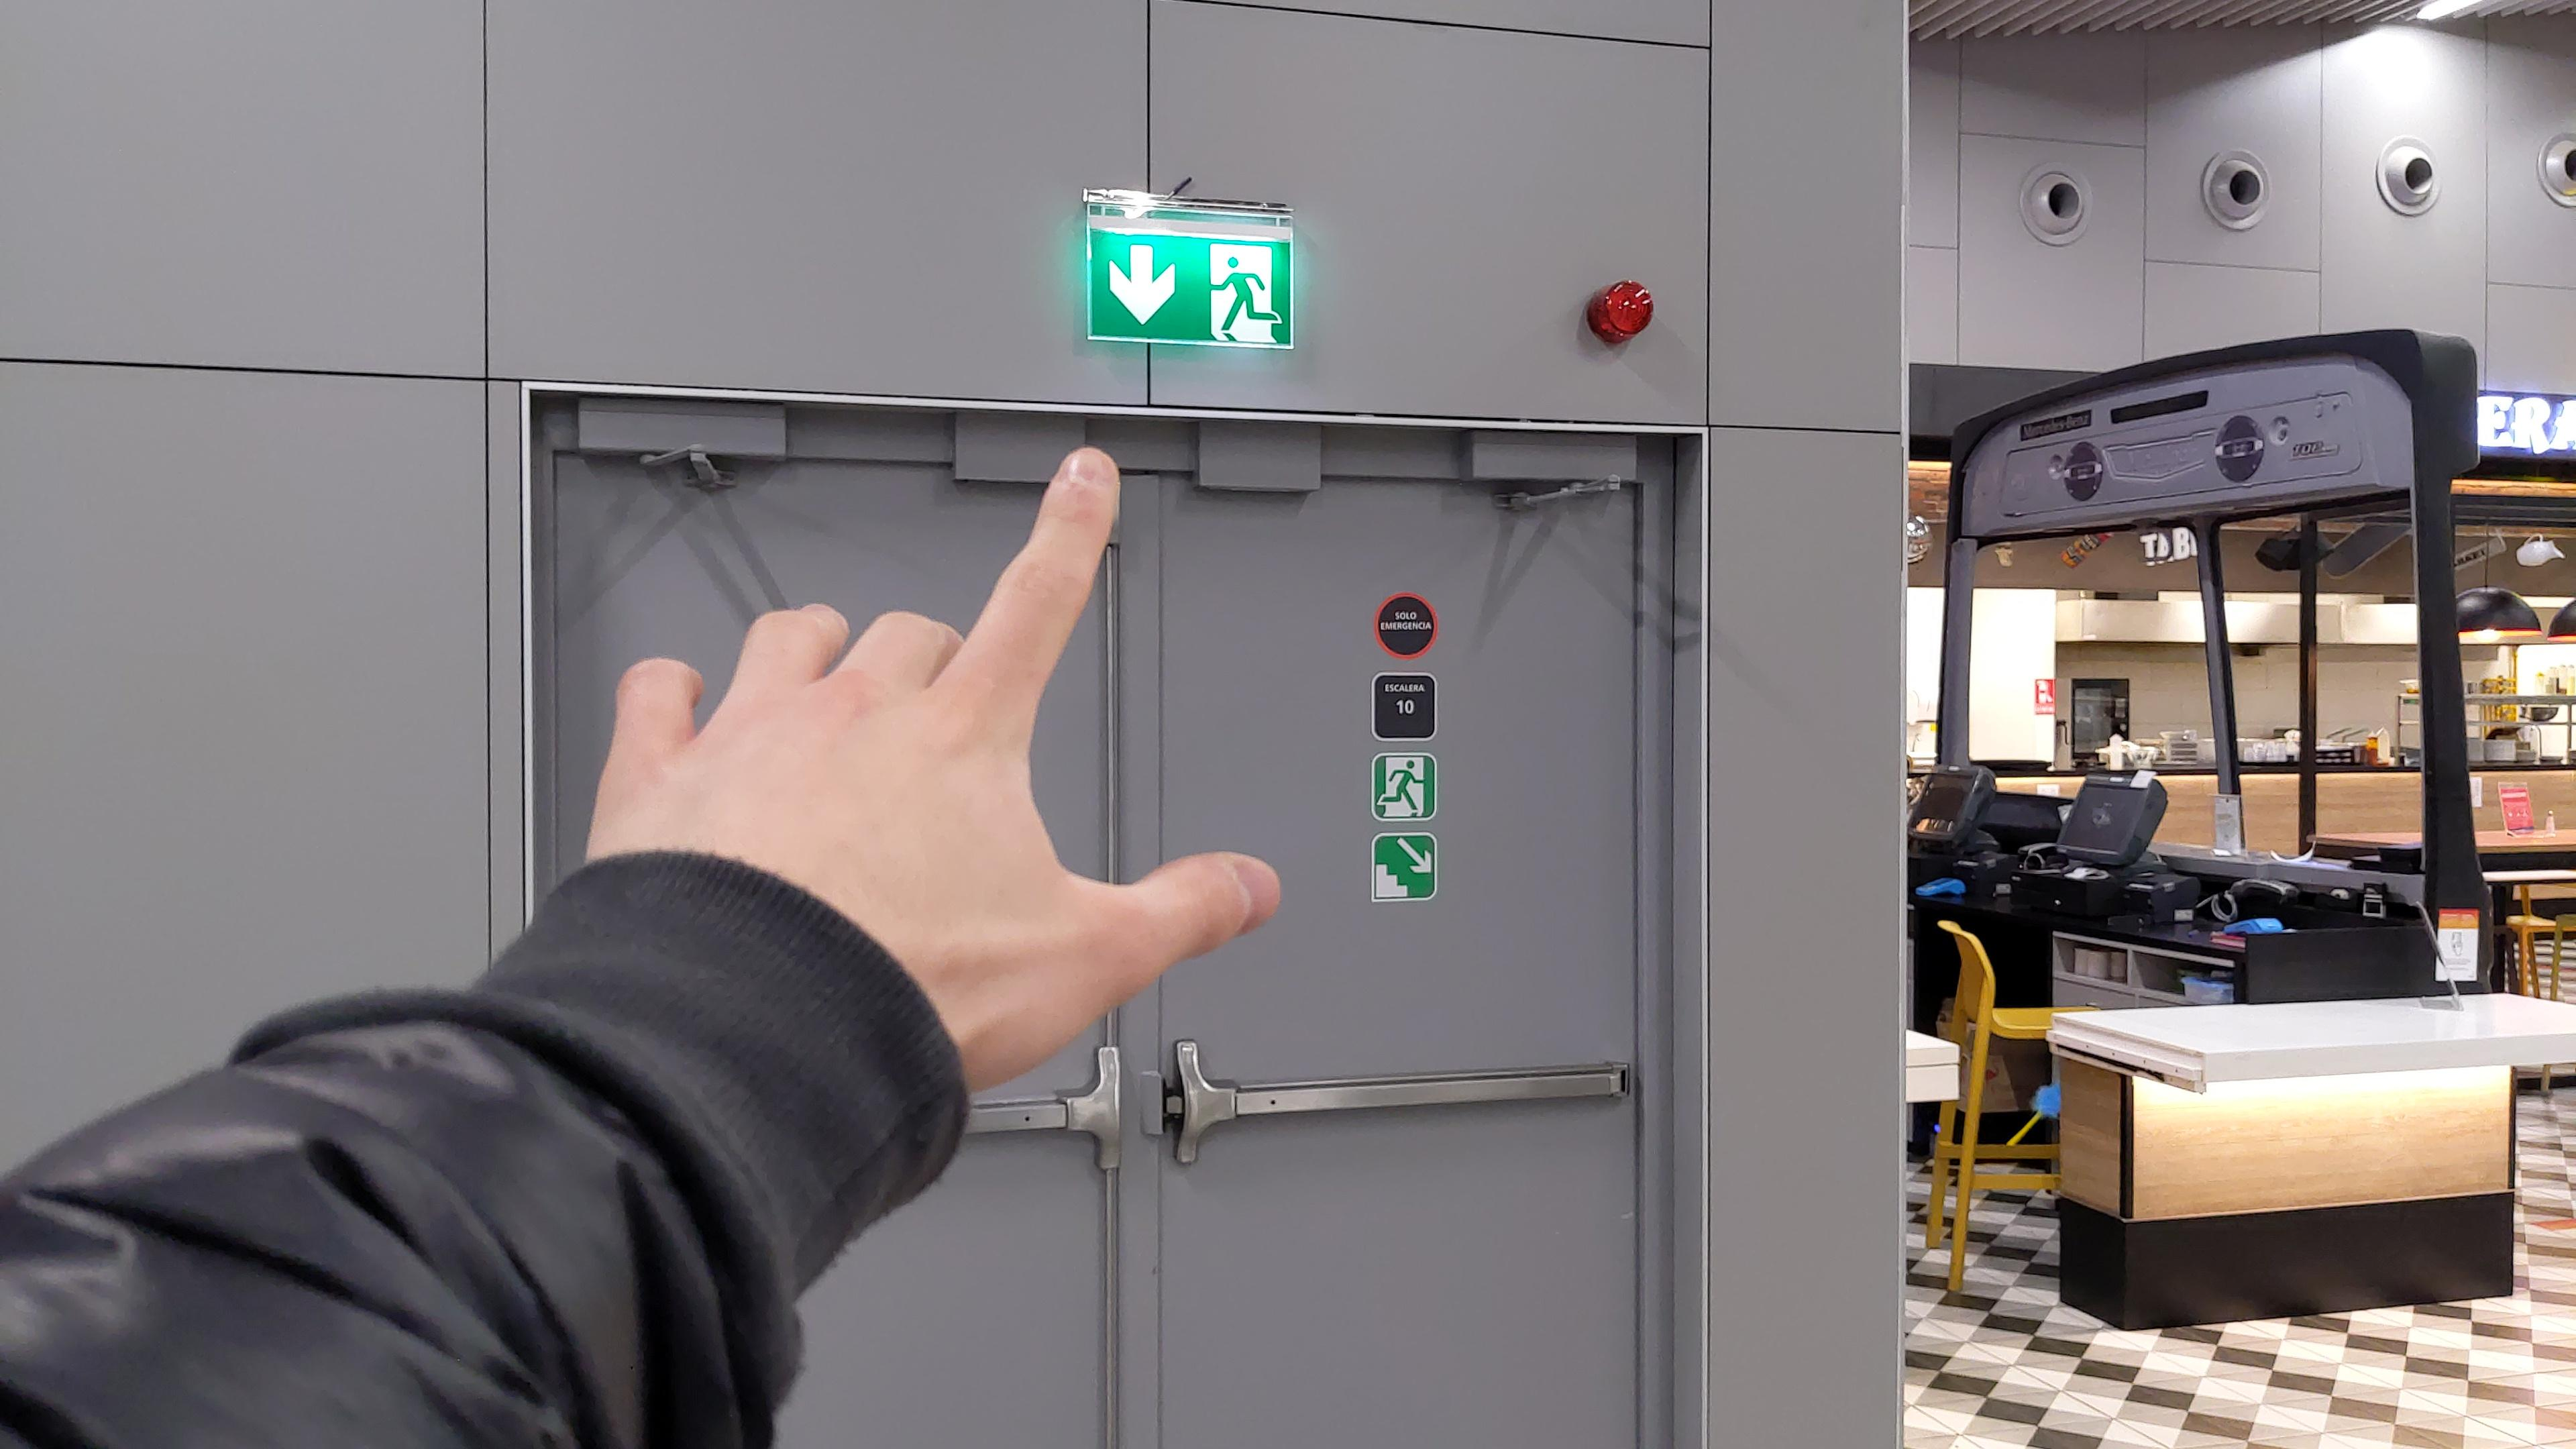emergency down arrow: (1102, 241, 1178, 329)
emergency exit: (1207, 241, 1284, 352), (1376, 754, 1426, 821)
